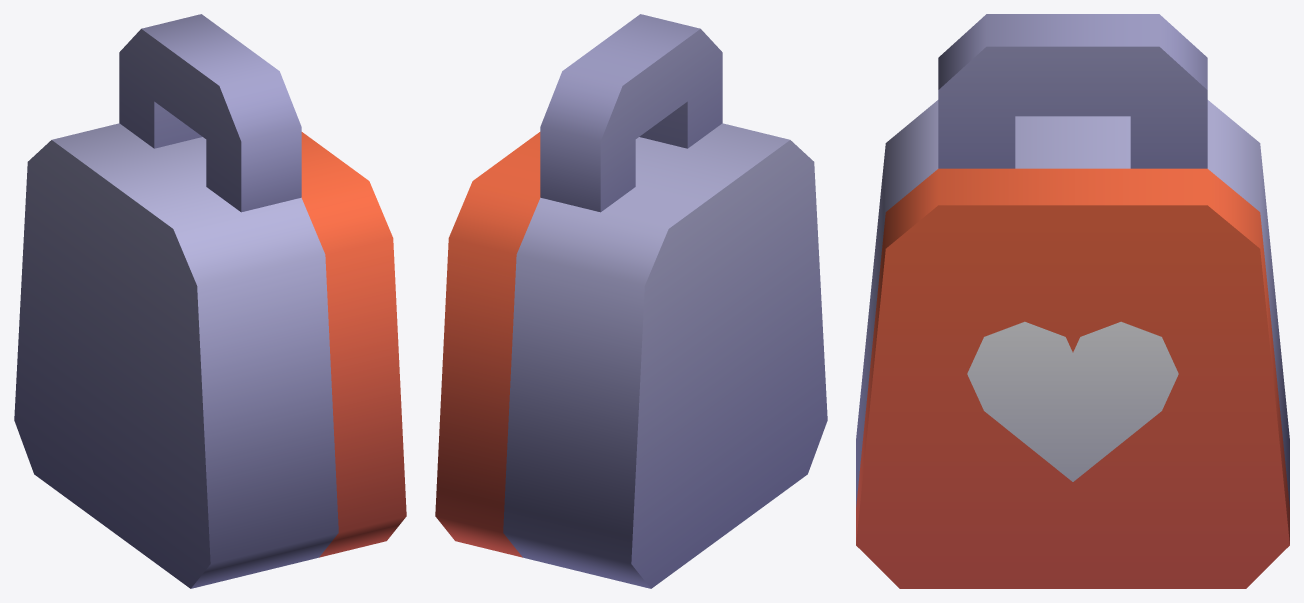
The model's file is defibrillator.glb.
3 views of the same model, side by side, from view 1: azimuth 30°, elevation 25°; view 2: azimuth 150°, elevation 25°; view 3: azimuth 270°, elevation 25° (orthographic). The views are drawn at different scales.
Size of the model in its own units: 0.169 by 0.35 by 0.2721.
1 material, 1 textured.
